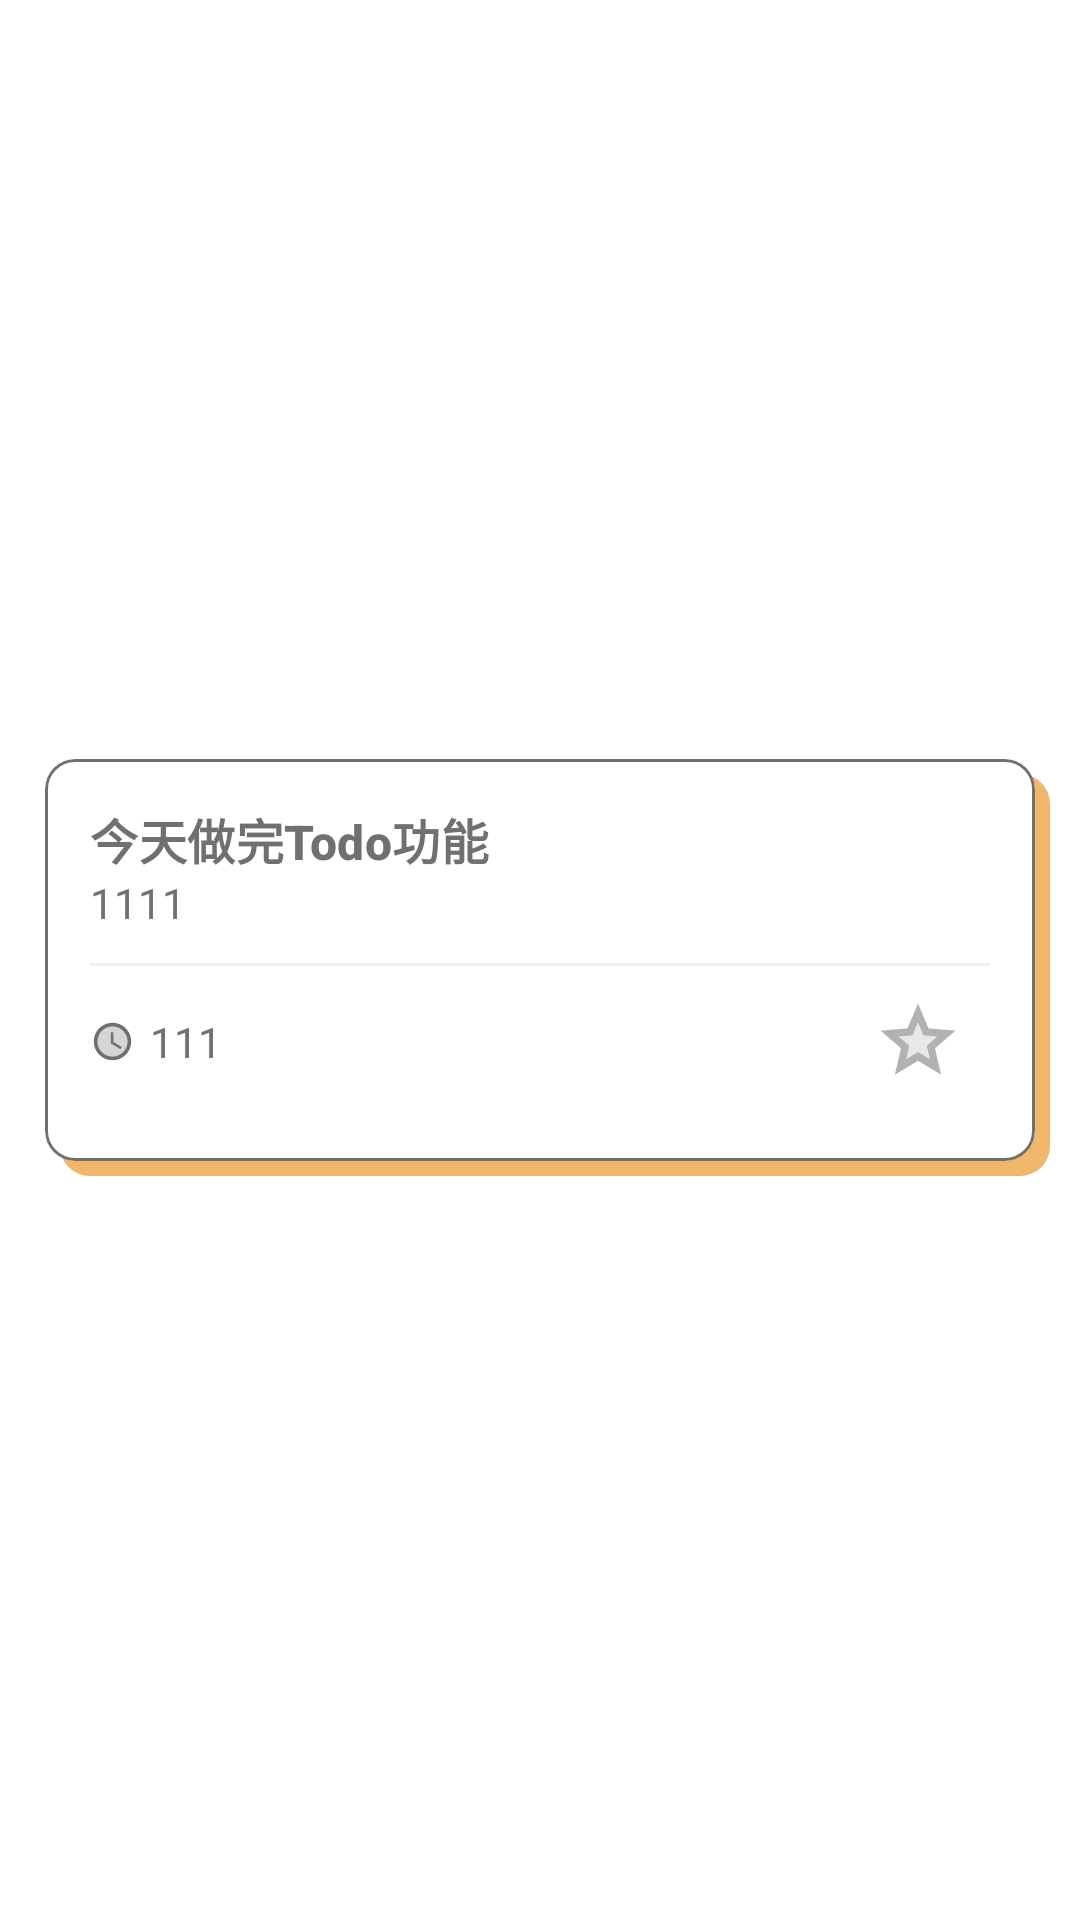

Locate icon controls on the screen. Image size 1080 × 1920, boxes as (x1, y1, x2, y2).
grade: (881, 1004, 955, 1074)
schedule: (93, 1022, 132, 1061)
